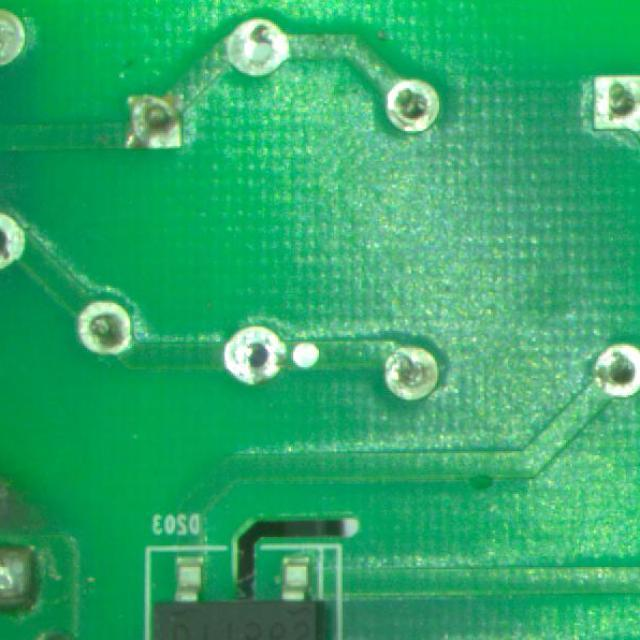Insufficient solder: (73, 288, 141, 364), (222, 16, 289, 82), (222, 322, 290, 385), (377, 336, 440, 403), (384, 70, 444, 138), (590, 67, 640, 138), (591, 341, 640, 402), (0, 206, 37, 273), (0, 6, 26, 66)
